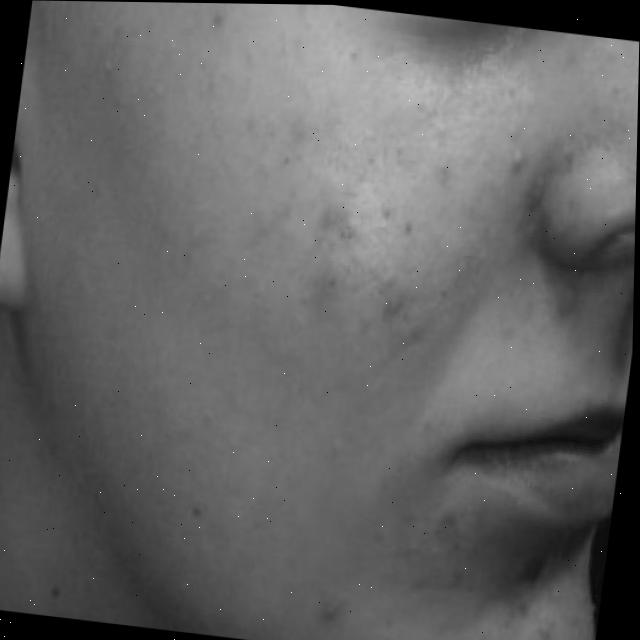Acne: (201, 82, 598, 371)
